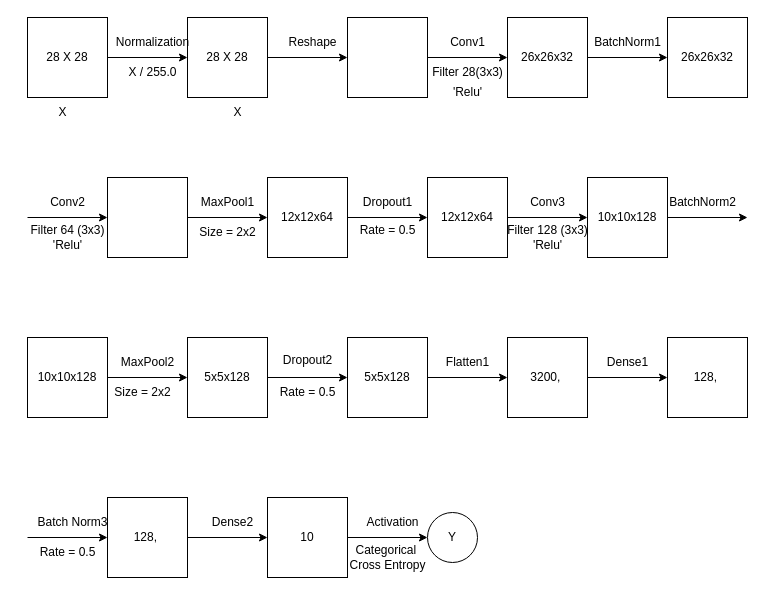
Image size: 773x595. Some labels were removed from this diagram. Here are the shapes that lost their labels. From the top down, the centre of each, then its label:
At (387,57): "28 X 28 x 1".
At (147,217): "24x24x64".
